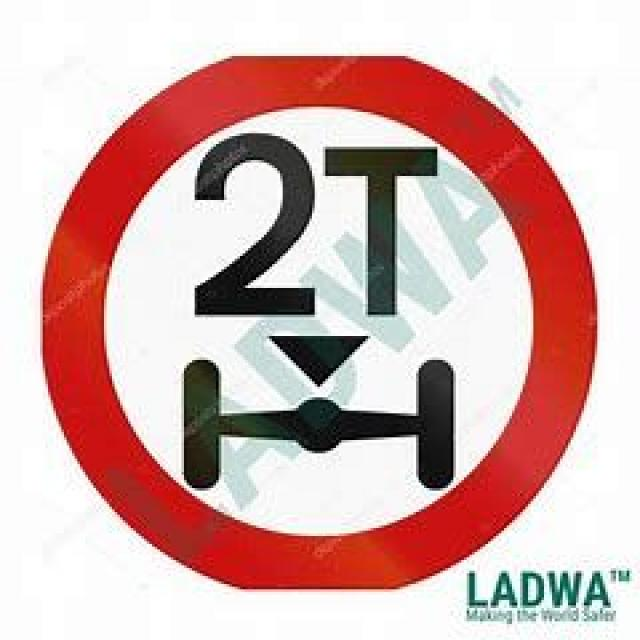AXLE_LOAD_LIMIT: (40, 53, 597, 587)
